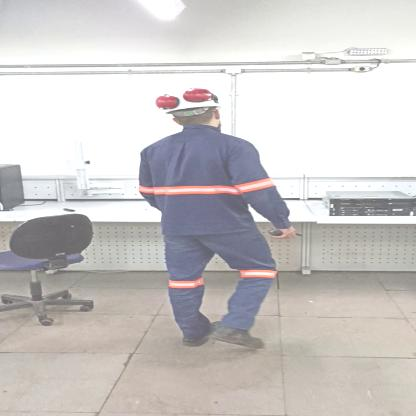Capacete: (157, 85, 227, 111)
